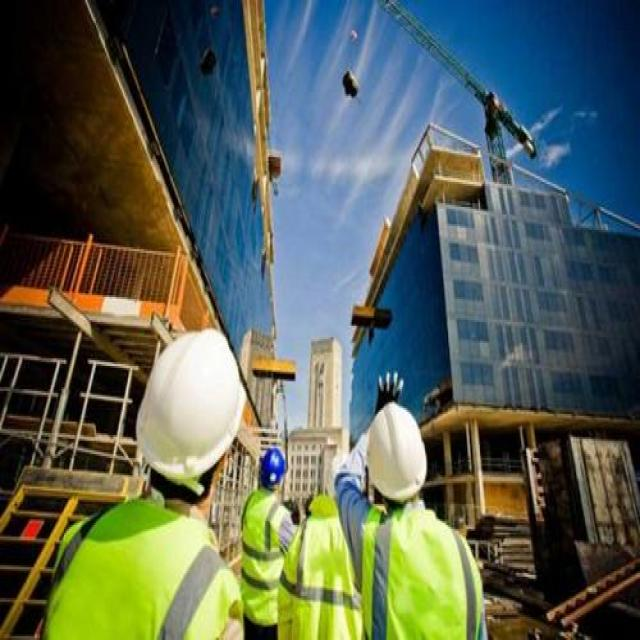Reflective-Jacket: (42, 504, 236, 640), (360, 508, 482, 638), (239, 491, 288, 626)
Safety-Helmet: (130, 322, 248, 481), (364, 399, 430, 504), (257, 446, 288, 488)
